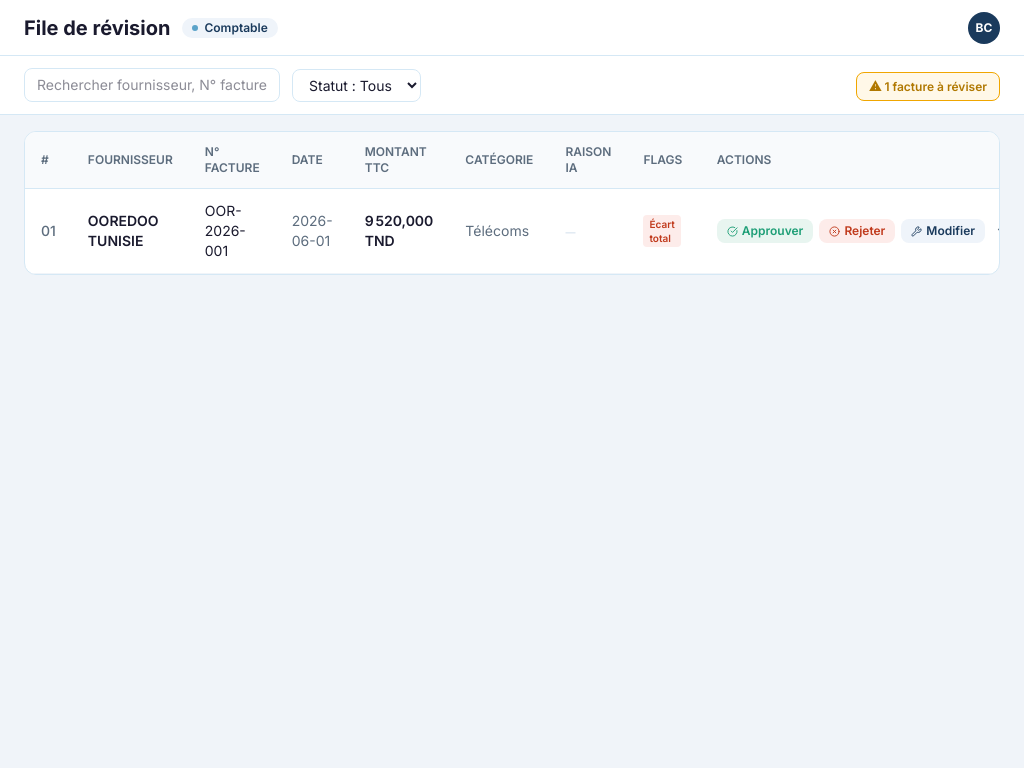
Test: ReviewQueue › shows success toast after approve
Click the button "Approuver": (765, 231) left=717, top=219, right=813, bottom=243
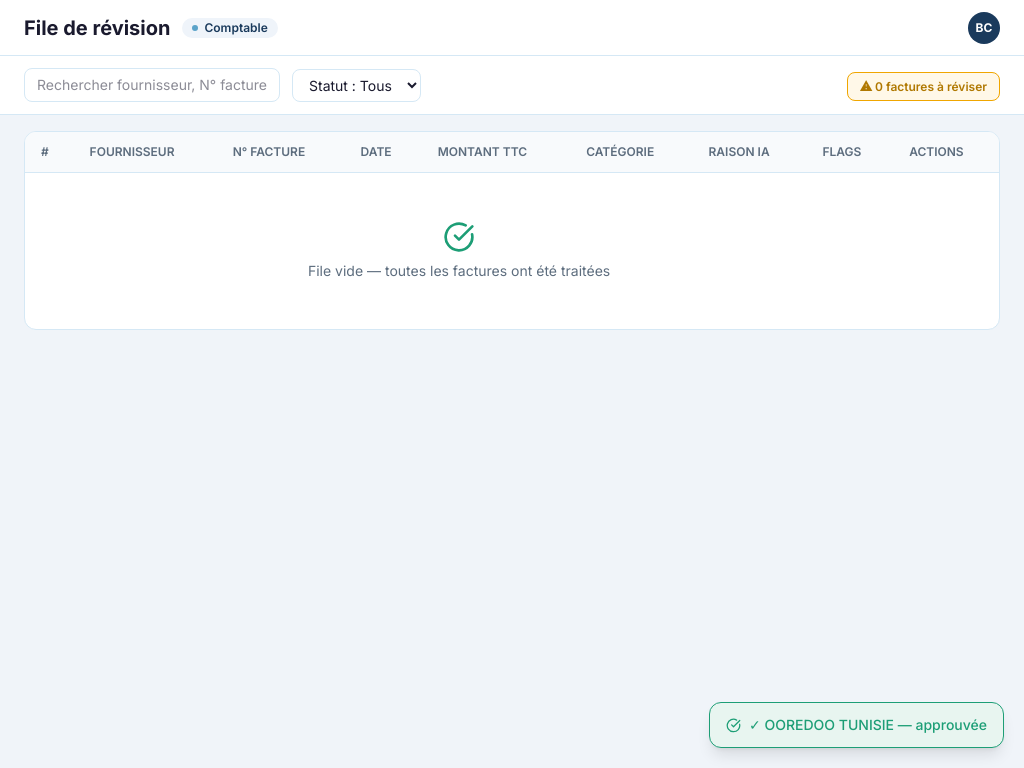
Check: the text "✓ OOREDOO TUNISIE — approuvée" is shown, box left=709, top=702, right=1004, bottom=748
